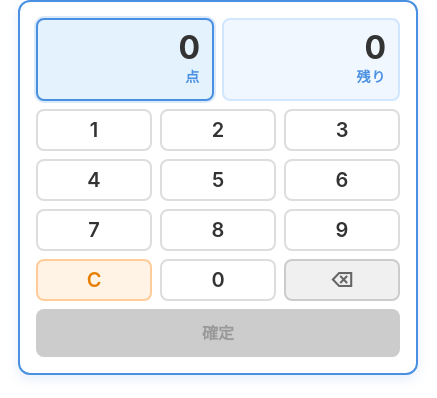
Test: DualNumPad › バックスペース機能 › バックスペースボタンでアクティブフィールドの最後の1文字が削除される
Click the button "1" at (94, 130), box [36, 109, 152, 151]
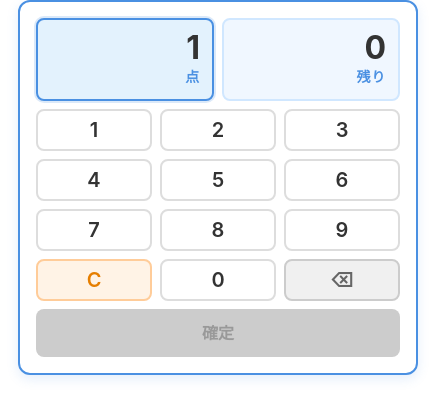
Click the button "2" at (218, 130), box [160, 109, 276, 151]
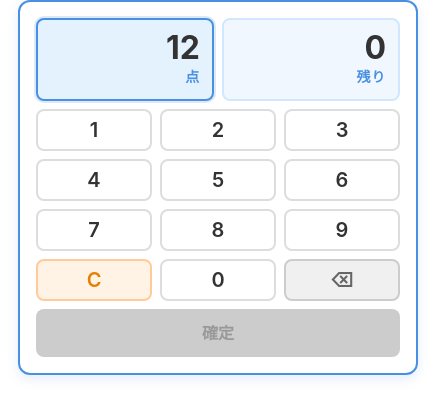
Click the button "3" at (342, 130), box [284, 109, 400, 151]
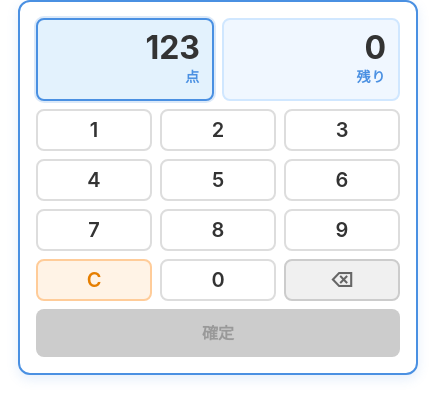
Now the text with class "dual-num-pad__input-value" reads "123", box [145, 28, 200, 67]
//  バックスペース
Click the button named "Backspace" at (342, 280), box [284, 259, 400, 301]
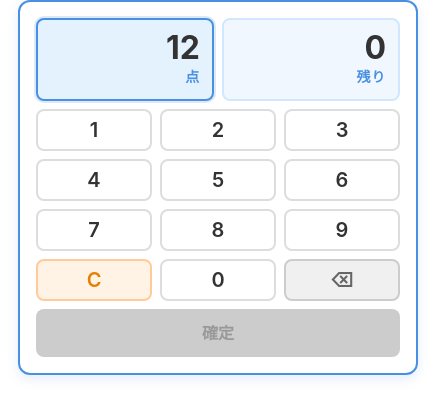
Now the text with class "dual-num-pad__input-value" reads "12", box [166, 28, 200, 67]
Click the button named "Backspace" at (342, 280), box [284, 259, 400, 301]
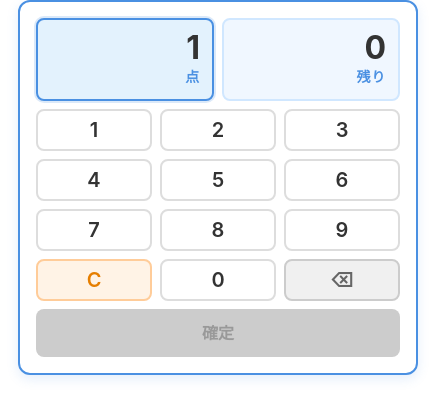
Now the text with class "dual-num-pad__input-value" reads "1", box [186, 28, 200, 67]
Click the button named "Backspace" at (342, 280), box [284, 259, 400, 301]
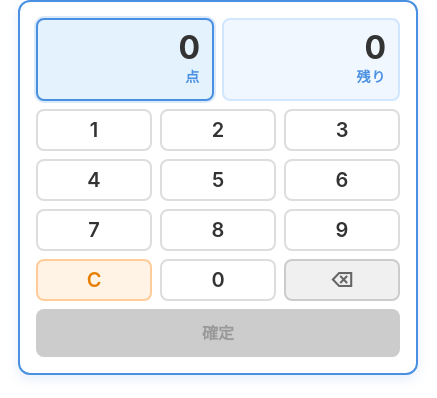
Now the 1st text with class "dual-num-pad__input-value" reads "0", box [178, 28, 200, 67]
